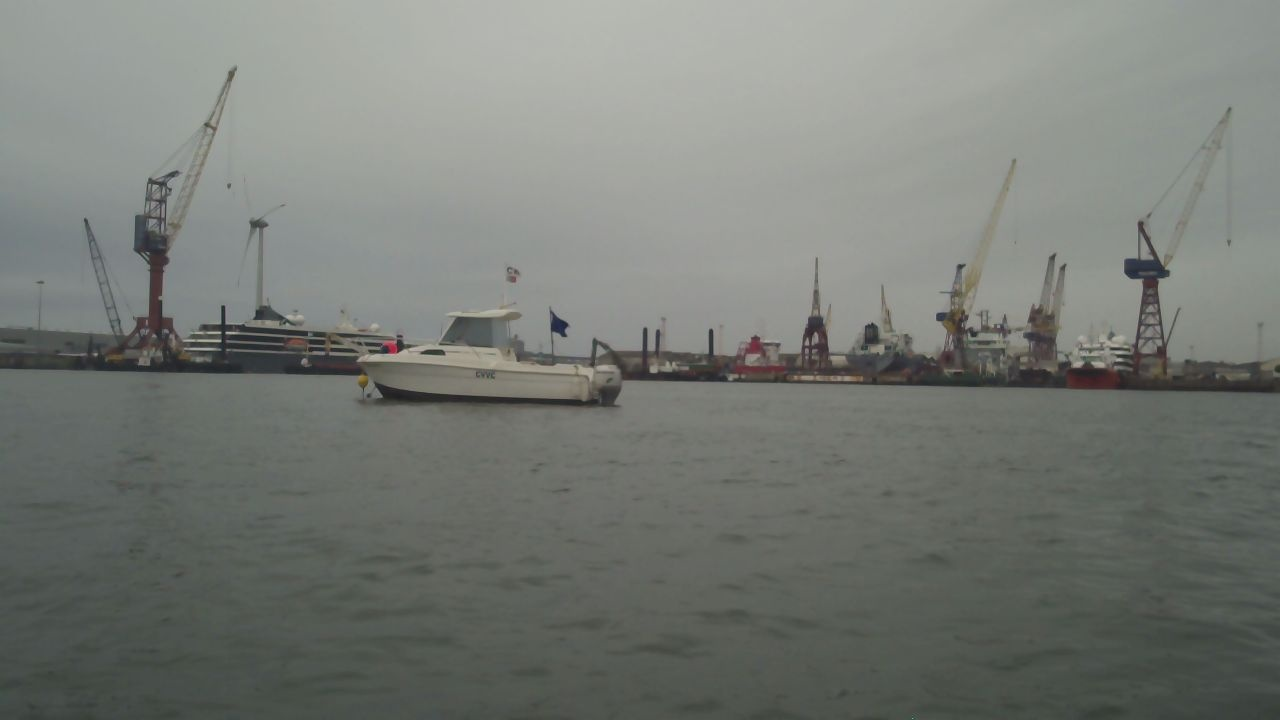Container Ship: (726, 333, 788, 382)
